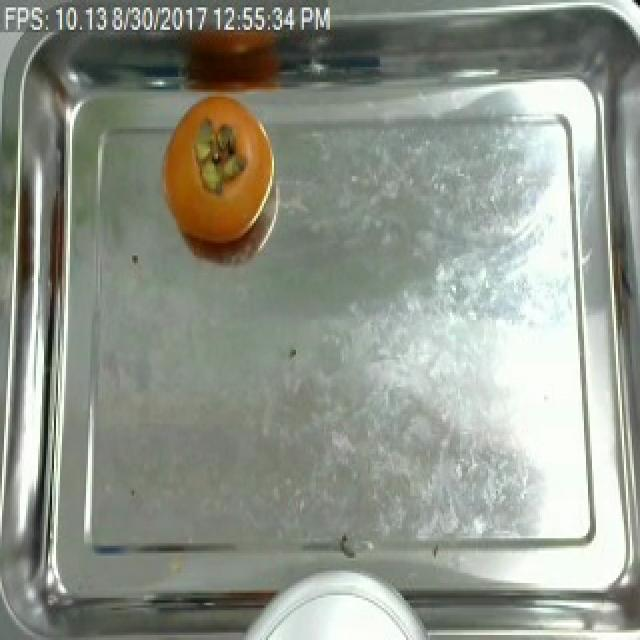Fruit: (160, 87, 282, 248)
